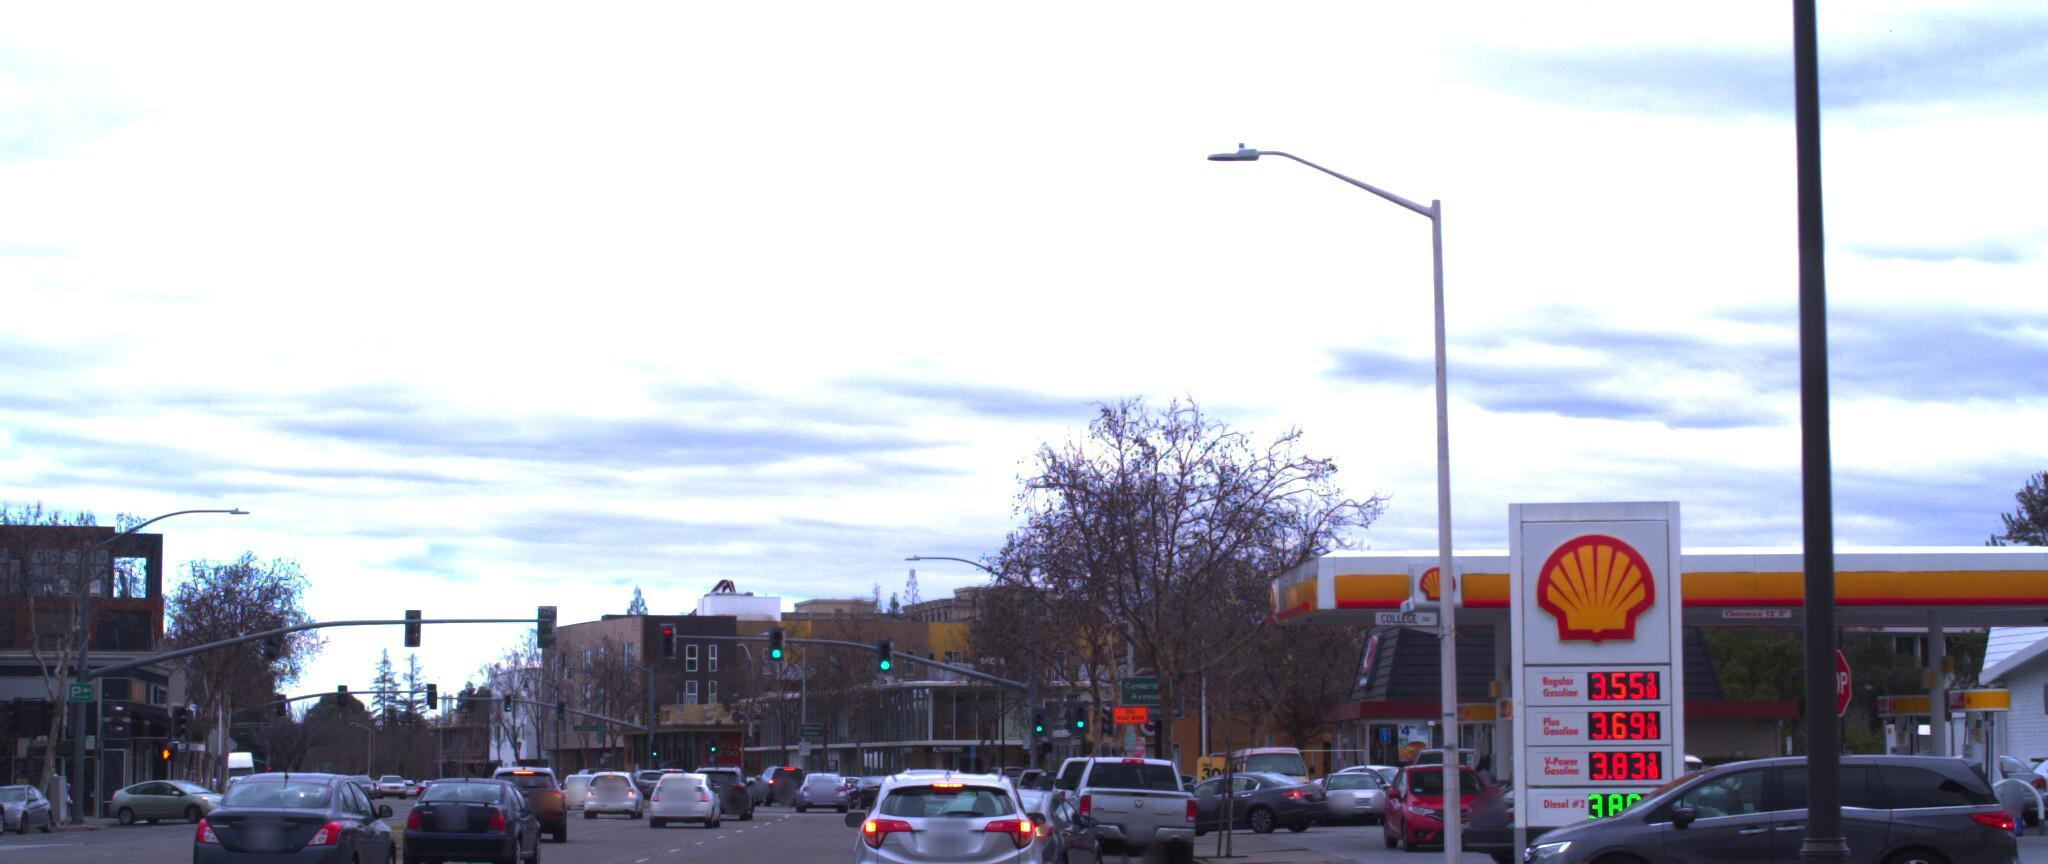car: (1499, 743, 2027, 864), (172, 762, 410, 864), (841, 752, 1045, 864), (389, 727, 552, 855), (925, 775, 1142, 864), (1059, 735, 1202, 857), (1369, 744, 1496, 834), (1219, 726, 1319, 808), (661, 757, 741, 816), (1992, 737, 2048, 805), (0, 750, 22, 824)
